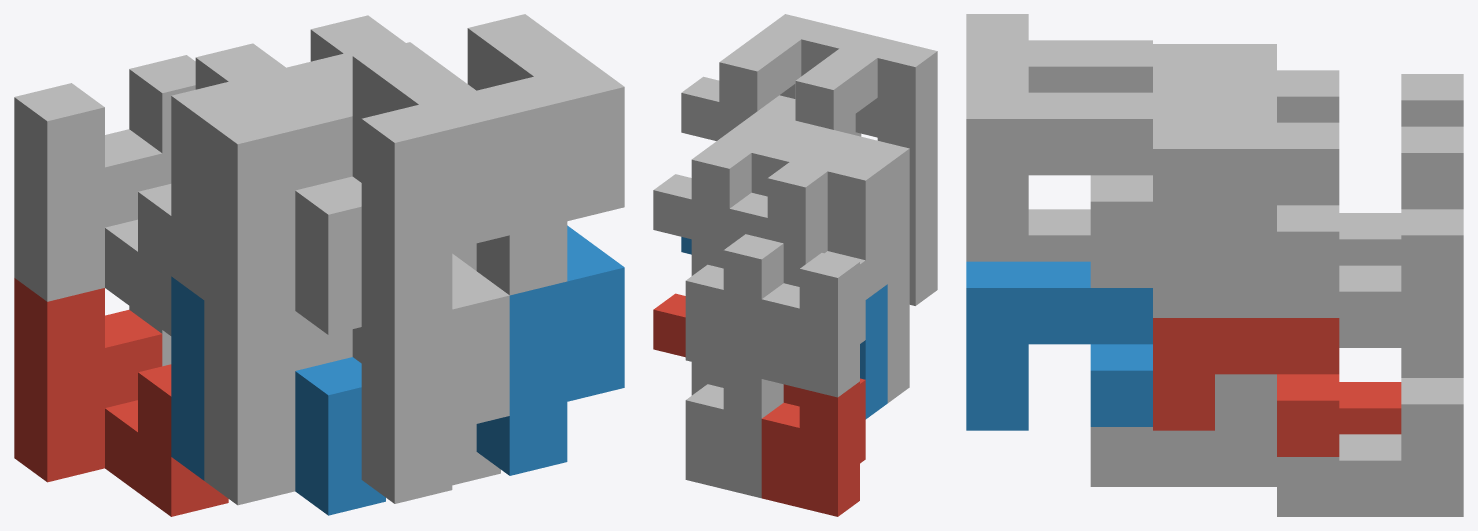
The model's file is tiling.obj.
3 views of the same model, side by side, from view 1: azimuth 30°, elevation 25°; view 2: azimuth 150°, elevation 25°; view 3: azimuth 270°, elevation 25° (orthographic). The views are drawn at different scales.
Visible parts, largest first — view 1: copy_2_domain_4, copy_1_domain_3, copy_1_domain_1, copy_2_domain_8, copy_2_domain_3, copy_2_domain_2, copy_2_domain_6, copy_2_domain_1, copy_1_domain_4, copy_1_domain_2, copy_1_domain_7, copy_2_domain_7 (+2 smaller); view 2: copy_2_domain_4, copy_1_domain_3, copy_2_domain_3, copy_1_domain_1, copy_1_domain_7, copy_2_domain_8, copy_1_domain_5, copy_2_domain_7, copy_1_domain_4, copy_2_domain_2, copy_1_domain_2, copy_2_domain_1 (+2 smaller); view 3: copy_2_domain_8, copy_2_domain_7, copy_2_domain_6, copy_1_domain_7, copy_1_domain_5, copy_2_domain_5, copy_1_domain_6, copy_1_domain_8, copy_2_domain_4, copy_2_domain_3, copy_1_domain_3, copy_2_domain_2 (+2 smaller).
Boxes of the visible parts, x1=… form: copy_2_domain_4: x1=352, y1=42, x2=509, y2=323; copy_1_domain_3: x1=14, y1=83, x2=171, y2=335; copy_1_domain_1: x1=14, y1=278, x2=228, y2=516; copy_2_domain_8: x1=467, y1=14, x2=624, y2=295; copy_2_domain_3: x1=195, y1=43, x2=352, y2=324; copy_2_domain_2: x1=352, y1=253, x2=509, y2=503; copy_2_domain_6: x1=476, y1=225, x2=624, y2=475; copy_2_domain_1: x1=204, y1=300, x2=352, y2=505; copy_1_domain_4: x1=171, y1=81, x2=361, y2=334; copy_1_domain_2: x1=171, y1=276, x2=385, y2=515; copy_1_domain_7: x1=129, y1=55, x2=195, y2=185; copy_2_domain_7: x1=310, y1=15, x2=405, y2=115; copy_2_domain_4: x1=758, y1=32, x2=937, y2=186; copy_1_domain_3: x1=761, y1=251, x2=865, y2=397; copy_2_domain_3: x1=729, y1=130, x2=909, y2=283; copy_1_domain_1: x1=761, y1=378, x2=865, y2=516; copy_1_domain_7: x1=685, y1=234, x2=783, y2=378; copy_2_domain_8: x1=681, y1=14, x2=861, y2=140; copy_1_domain_5: x1=685, y1=362, x2=783, y2=498; copy_2_domain_7: x1=653, y1=111, x2=832, y2=247; copy_1_domain_4: x1=827, y1=155, x2=887, y2=299; copy_2_domain_2: x1=909, y1=171, x2=937, y2=305; copy_1_domain_2: x1=860, y1=284, x2=887, y2=419; copy_2_domain_1: x1=887, y1=268, x2=909, y2=402; copy_2_domain_8: x1=966, y1=66, x2=1152, y2=261; copy_2_domain_7: x1=1153, y1=96, x2=1339, y2=287; copy_2_domain_6: x1=966, y1=261, x2=1152, y2=430; copy_1_domain_7: x1=1277, y1=126, x2=1463, y2=347; copy_1_domain_5: x1=1277, y1=348, x2=1463, y2=516; copy_2_domain_5: x1=1153, y1=318, x2=1339, y2=456; copy_1_domain_6: x1=1090, y1=374, x2=1276, y2=486; copy_1_domain_8: x1=1090, y1=96, x2=1276, y2=317; copy_2_domain_4: x1=966, y1=14, x2=1152, y2=92; copy_2_domain_3: x1=1153, y1=44, x2=1339, y2=122; copy_1_domain_3: x1=1339, y1=74, x2=1463, y2=265; copy_2_domain_2: x1=1028, y1=209, x2=1090, y2=261.
Size of the model in its own units: 7 by 8 by 8.
